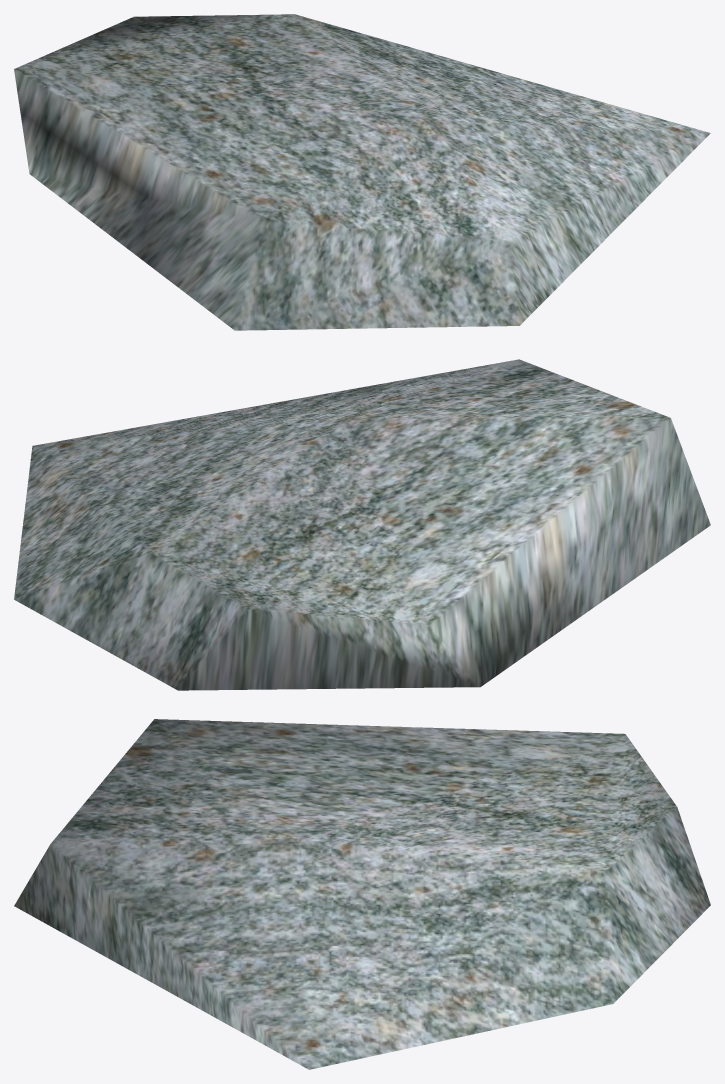
Rendered from rock_graniteslab_medium_a2_l2.fbx.
3 renders of one model, top to bottom at view 1: azimuth 30°, elevation 25°; view 2: azimuth 150°, elevation 25°; view 3: azimuth 270°, elevation 25°, orthographic. The views are drawn at different scales.
Parts seen in each view (by area): view 1: mesh_node; view 2: mesh_node; view 3: mesh_node.
Boxes of the visible parts, bbox=[...] form: mesh_node: bbox=[14, 14, 710, 330]; mesh_node: bbox=[14, 359, 710, 690]; mesh_node: bbox=[14, 719, 710, 1069].
Bounding box in the file's own units: 1.47 × 0.2461 × 1.6.
